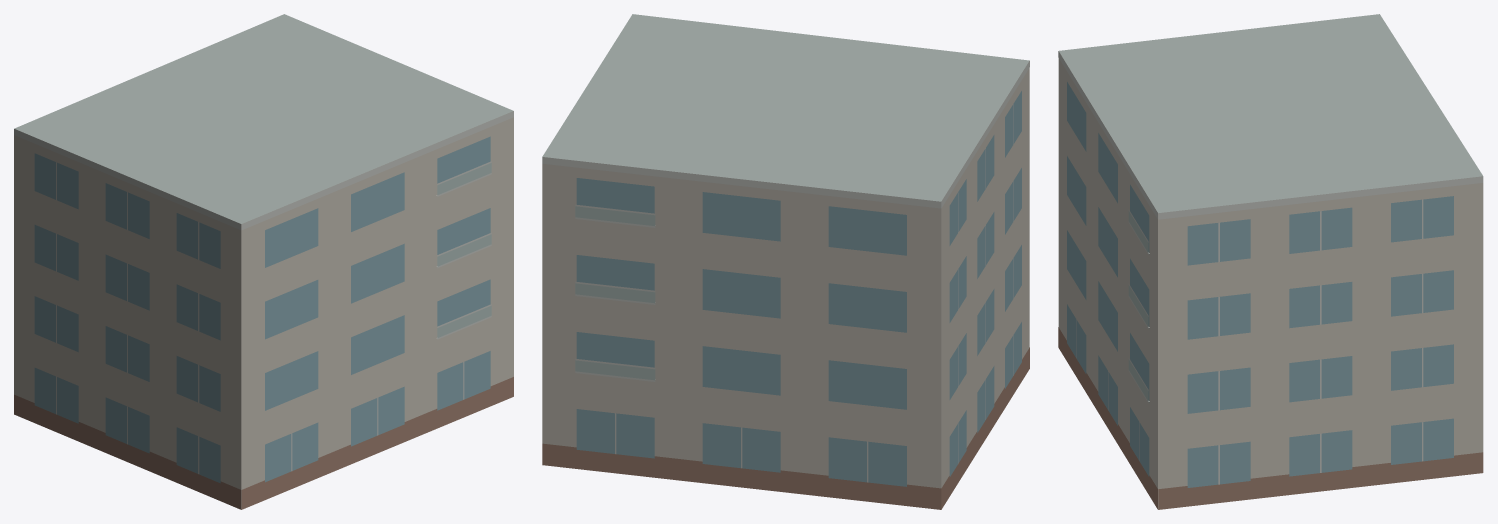
File: survey-upis-32704963.glb
The picture shows the model from 3 angles, left to right: view 1: azimuth 30°, elevation 25°; view 2: azimuth 150°, elevation 25°; view 3: azimuth 270°, elevation 25°; orthographic projection. The views are drawn at different scales.
Parts seen in each view (by area): view 1: survey-upis-32704963.tmp; view 2: survey-upis-32704963.tmp; view 3: survey-upis-32704963.tmp.
Part boxes in pixels (x1,y1,x2,y2): survey-upis-32704963.tmp: (14,14,513,509); survey-upis-32704963.tmp: (542,14,1029,509); survey-upis-32704963.tmp: (1058,14,1483,509).
Bounding box in the file's own units: 15.9 × 11.04 × 14.34.
